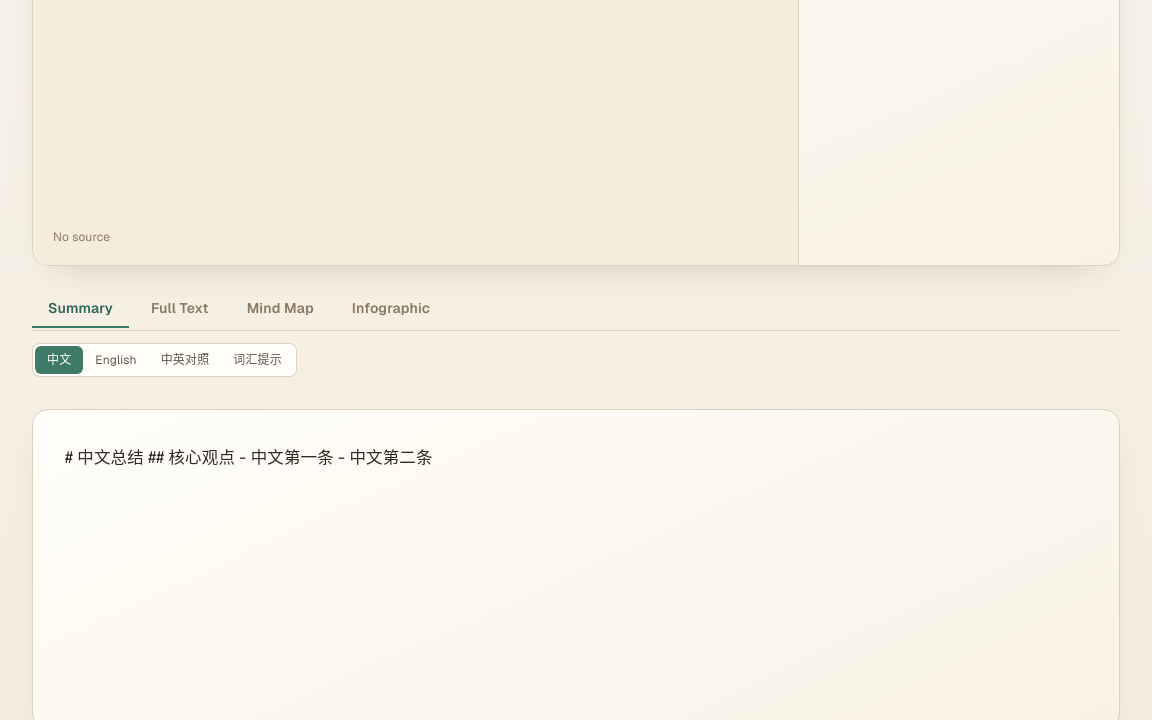
Test: DashboardPage language modes › prefers aligned bilingual payload when available
This screenshot has width=1152, height=720.
(page scrolled)
Check: the button "Summary" is shown, box [32,290,129,328]
Step 1. Click the button "中英对照" → x=185, y=360, box [149,346,221,374]
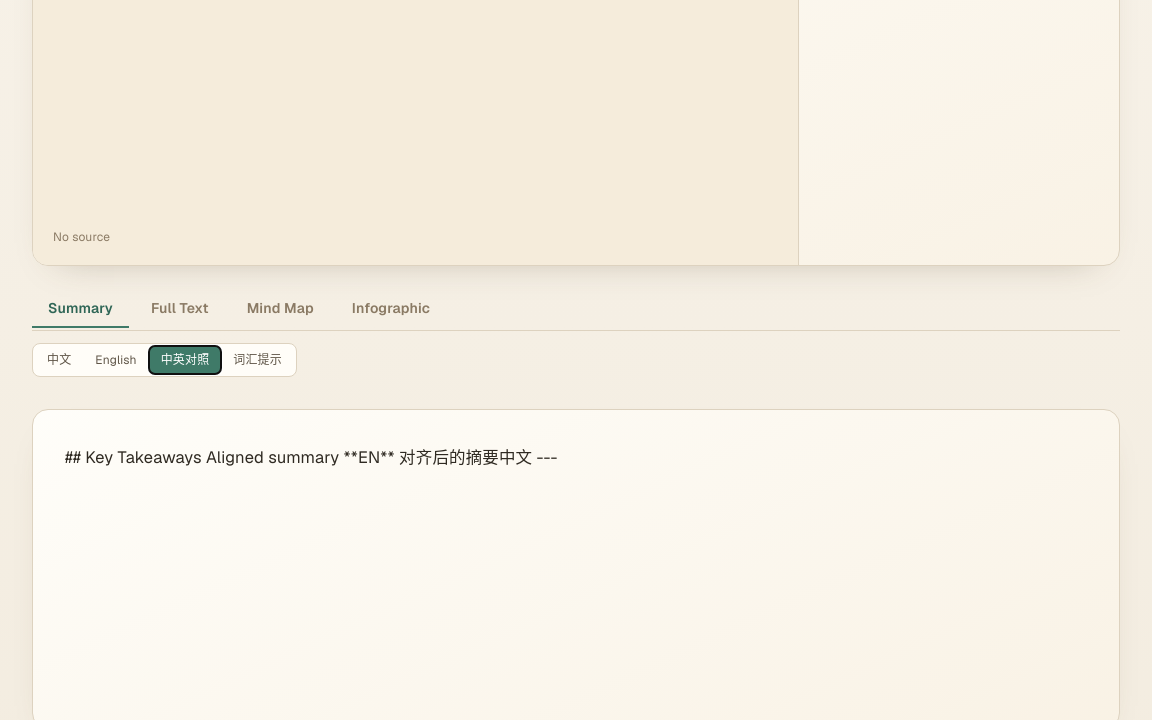
Check: the text "Aligned summary **EN**" is shown, box [65,446,558,468]
Check: the text "对齐后的摘要中文" is shown, box [65,446,558,468]
Step 2. Click the button "Full Text" → x=180, y=309, box [135,290,225,328]
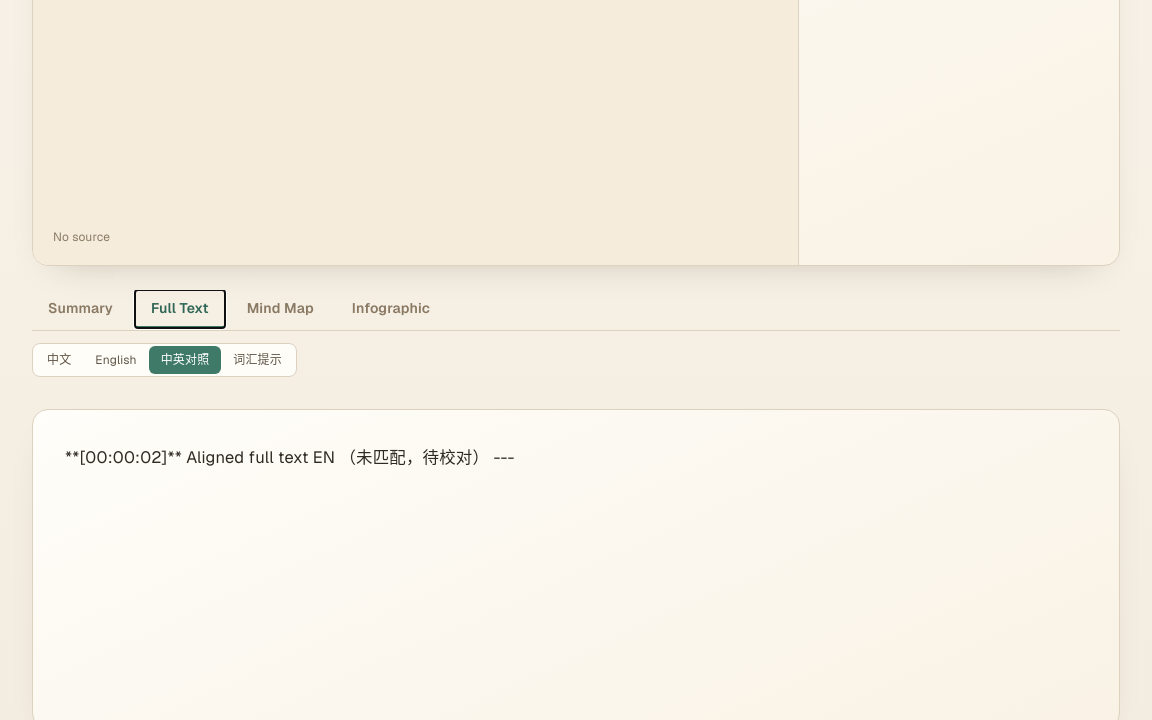
Check: the text "Aligned full text EN" is shown, box [65,446,515,468]
Check: the text "（未匹配，待校对）" is shown, box [65,446,515,468]
